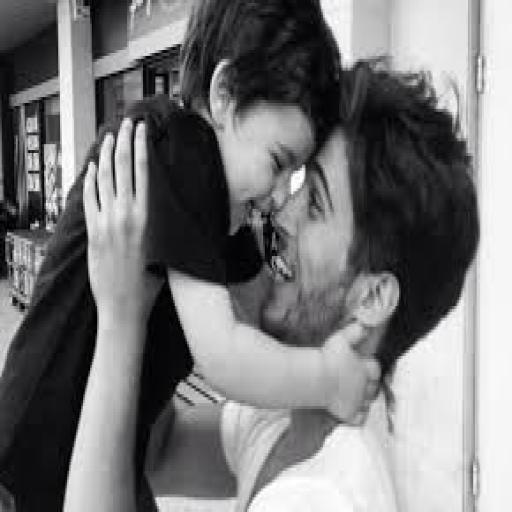hugging: (2, 3, 480, 509)
